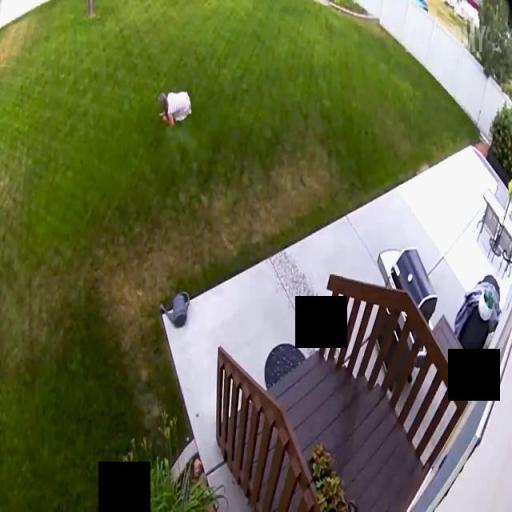Fall: (154, 88, 193, 124)
